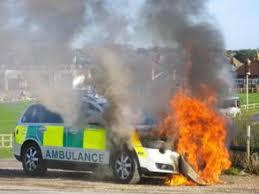fire: (160, 85, 234, 180)
